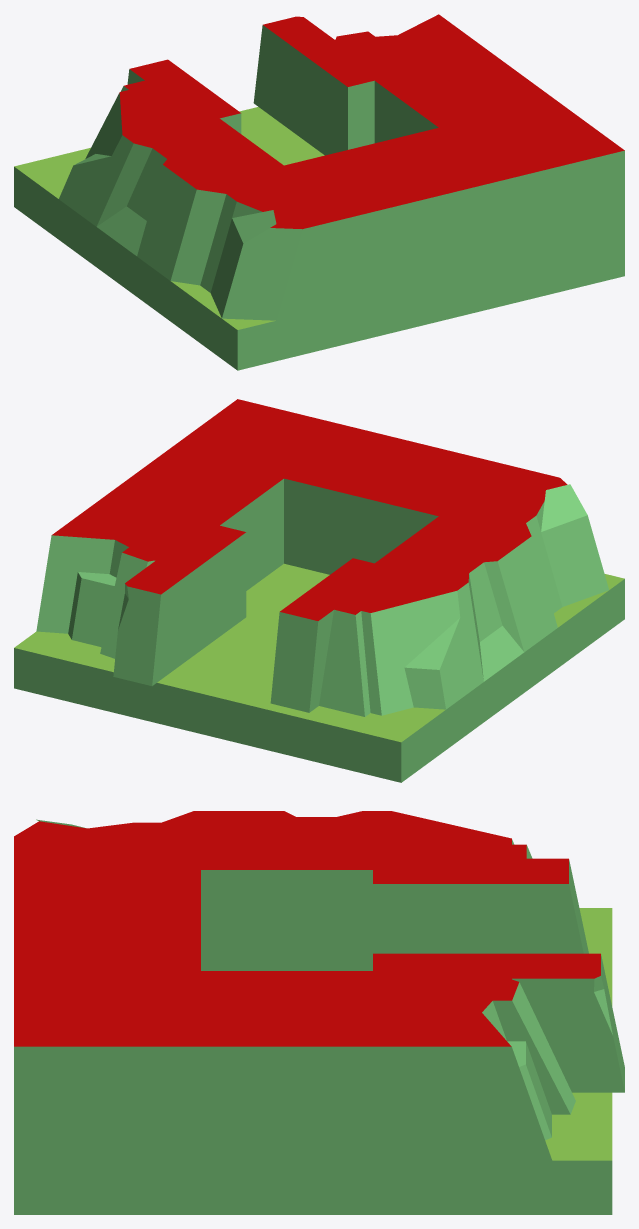
Rendered from x_zem_1_9_cave1_rmstrd.fbx.
3 renders of one model, top to bottom at view 1: azimuth 30°, elevation 25°; view 2: azimuth 150°, elevation 25°; view 3: azimuth 270°, elevation 25°, orthographic. The views are drawn at different scales.
Parts seen in each view (by area): view 1: x_zem_1_9_cave1_rmstrd1; view 2: x_zem_1_9_cave1_rmstrd1; view 3: x_zem_1_9_cave1_rmstrd1.
Part boxes in pixels (x1,y1,x2,y2): x_zem_1_9_cave1_rmstrd1: (14,14,624,370); x_zem_1_9_cave1_rmstrd1: (14,399,624,782); x_zem_1_9_cave1_rmstrd1: (14,811,624,1214).
Size of the model in its own units: 10 by 3.23 by 10.21.
